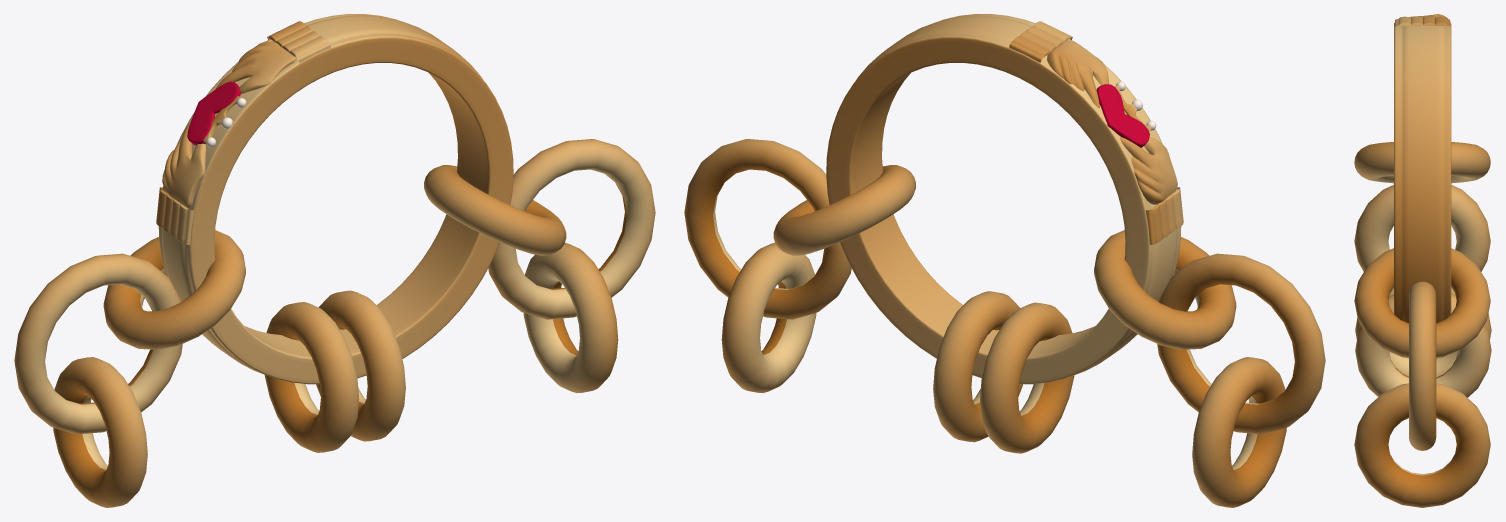
File: hashigo_r_a.fbx
3 renders of one model, left to right at view 1: azimuth 30°, elevation 25°; view 2: azimuth 150°, elevation 25°; view 3: azimuth 270°, elevation 25°, orthographic. The views are drawn at different scales.
Parts seen in each view (by area): view 1: t2; view 2: t2; view 3: t2.
Part boxes in pixels (bbox=[...]): t2: bbox=[14, 14, 655, 507]; t2: bbox=[684, 14, 1325, 507]; t2: bbox=[1354, 14, 1491, 507].
Size of the model in its own units: 19.09 by 12.03 by 4.02.
4 materials, 2 textured.
